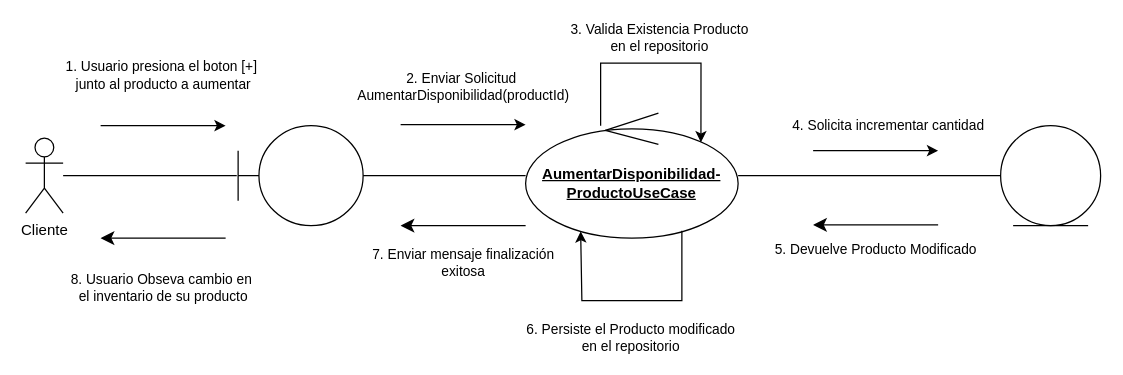
Some shapes in this 1123 by 375 pixel diagram are drawn without their labels. The centre of each missing label's shape, as x and y in pixels:
MainView Class: point 300,175
Producto: point 1050,175
